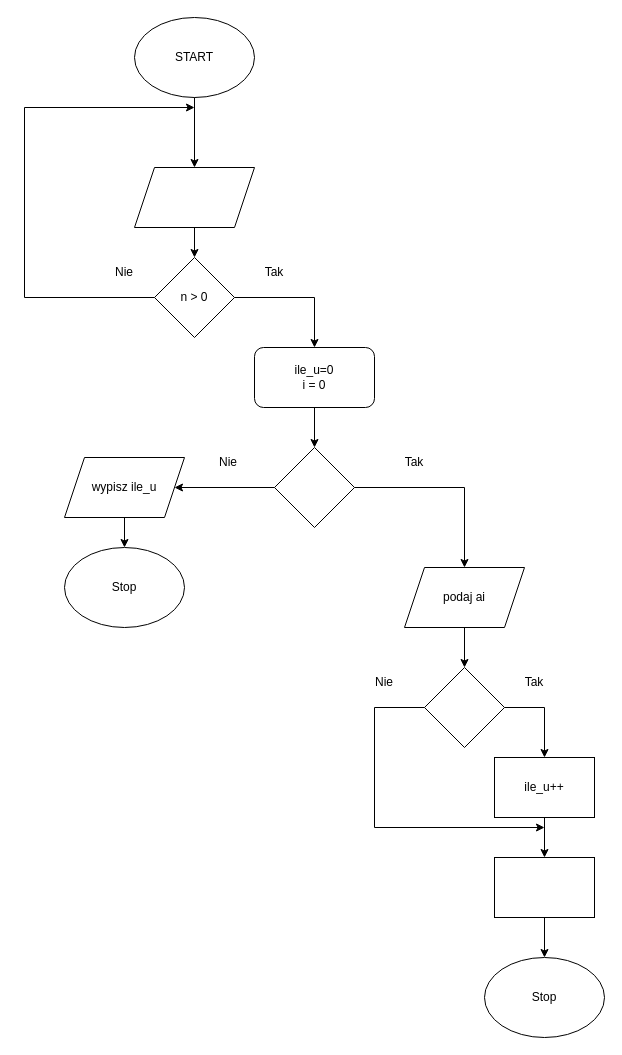
This 622x1055 diagram has some shape labels left out. The centre of each missing label's shape, as x and y in pixels:
ai<0: pixel 464 707
i++: pixel 544 887
i<n: pixel 314 487
podaj n: pixel 194 197
